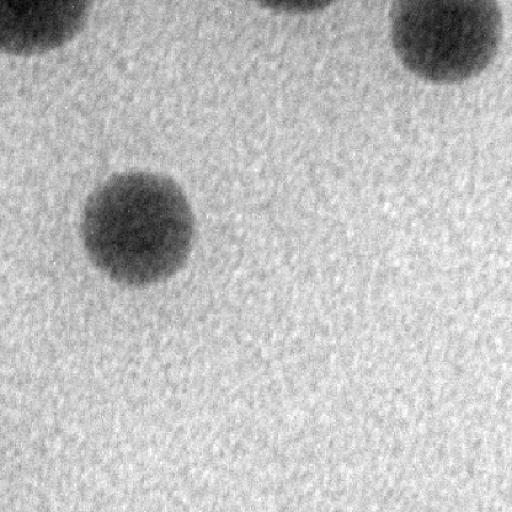Nanoparticles: (79, 169, 200, 285), (387, 1, 502, 85), (0, 0, 102, 56), (257, 0, 335, 17)
